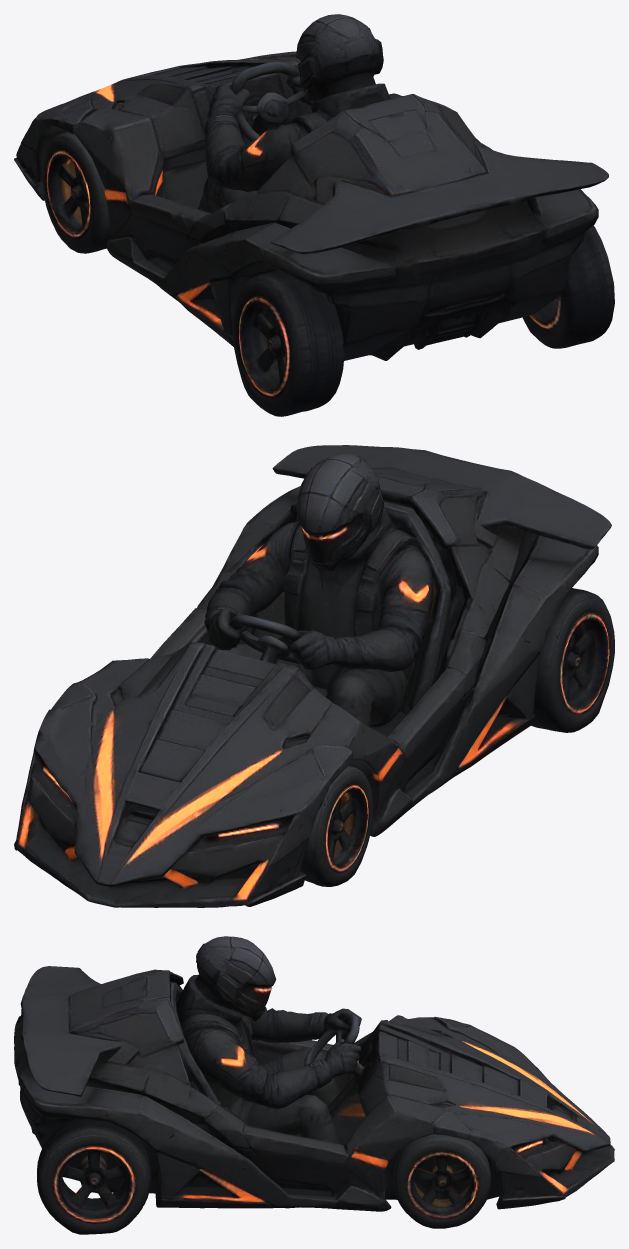
Rendered from obsidian-dark.glb.
3 renders of one model, top to bottom at view 1: azimuth 30°, elevation 25°; view 2: azimuth 150°, elevation 25°; view 3: azimuth 270°, elevation 25°, orthographic. The views are drawn at different scales.
Parts seen in each view (by area): view 1: chassis; view 2: chassis; view 3: chassis.
Boxes of the visible parts, x1,y1,x2,y2 form: chassis: (14,14,614,416); chassis: (14,445,614,907); chassis: (14,936,614,1234).
Size of the model in its own units: 2.3 by 1.96 by 4.5.
1 material, 1 textured.
